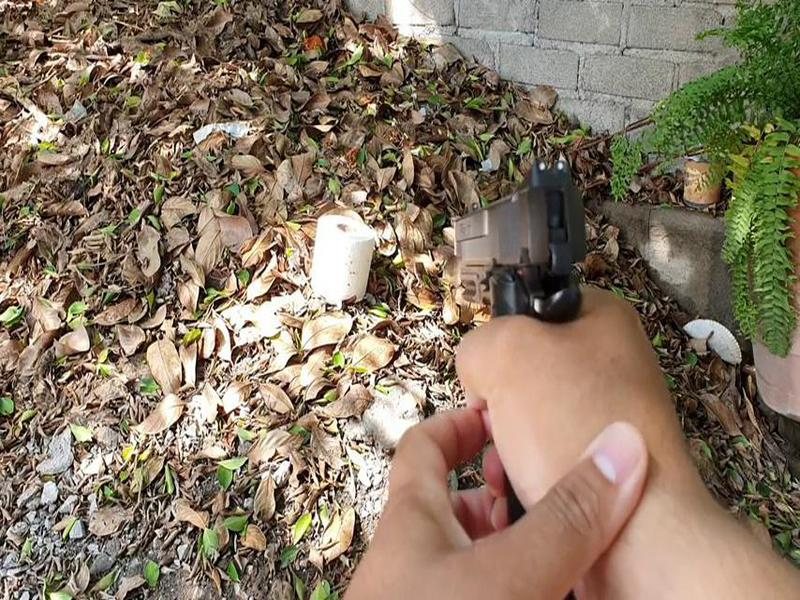Pistola: (430, 153, 596, 363)
